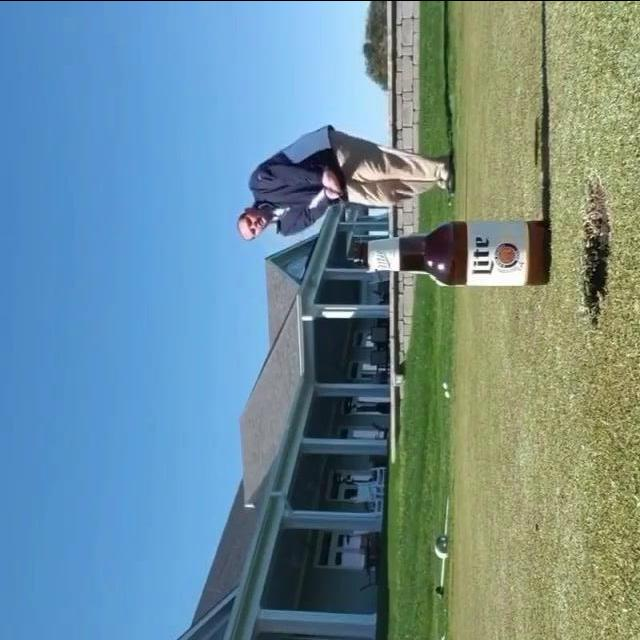GolfBall: (443, 381, 449, 388), (445, 389, 450, 397)
